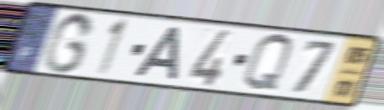1: (95, 17, 134, 79)
4: (188, 28, 230, 88)
7: (293, 38, 340, 96)
A: (130, 25, 184, 82)
G: (41, 11, 97, 75)
Q: (241, 31, 294, 94)
